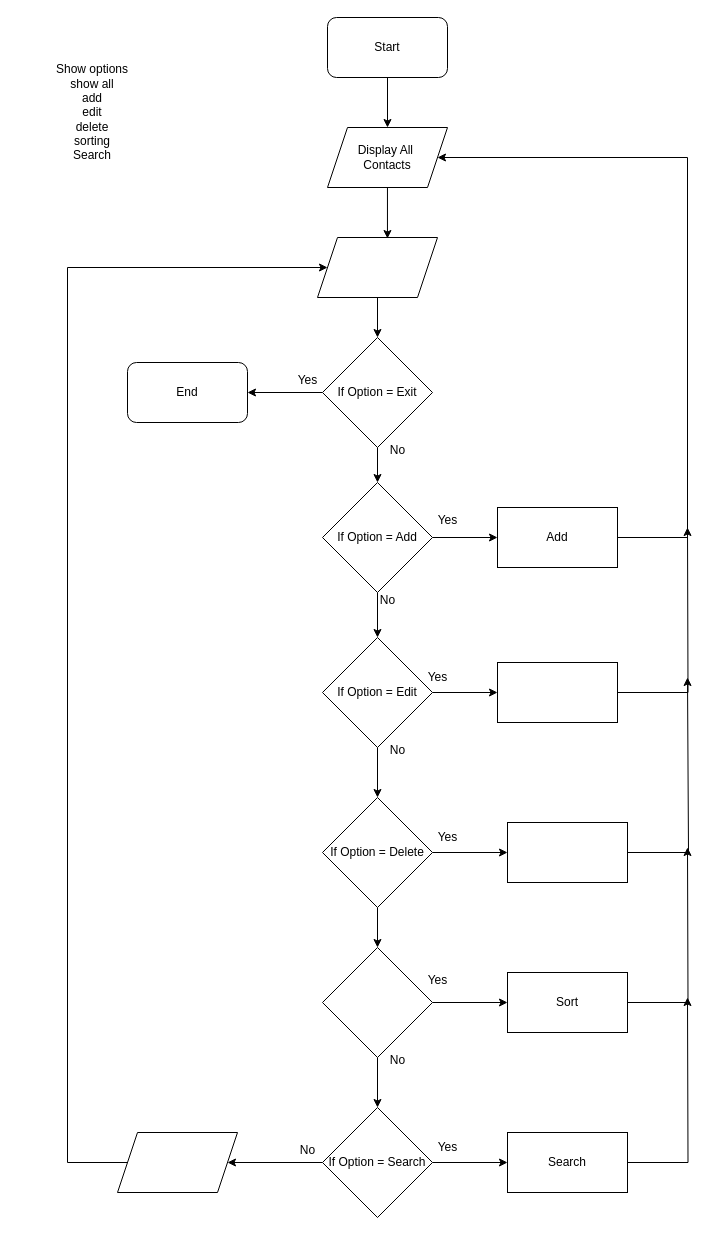
This 714x1235 diagram has some shape labels left out. The shapes that lost their labels are listed below. From the top down, each one's centre as x and y in pixels, then its label:
At point 377,267: "Choose Option".
At point 557,692: "Edit".
At point 567,852: "Delete".
At point 377,1002: "If Option = Sort".
At point 177,1162: "Invalid Option".
